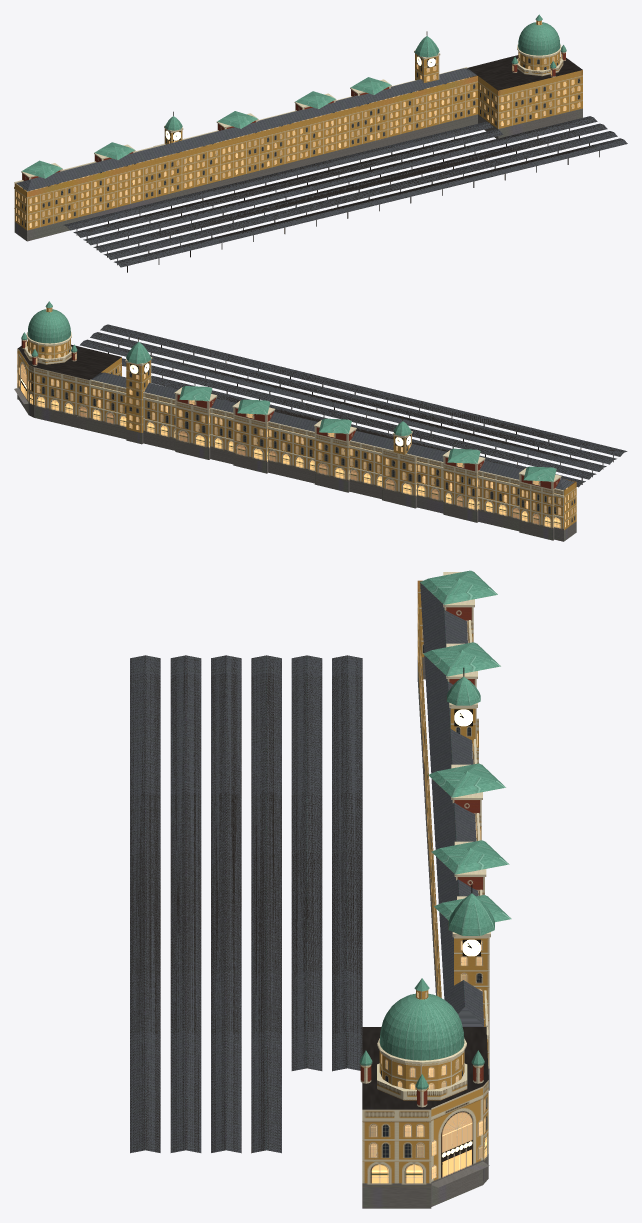
The model's file is flinders-station.glb.
3 views of the same model, one above another, from view 1: azimuth 30°, elevation 25°; view 2: azimuth 150°, elevation 25°; view 3: azimuth 270°, elevation 25° (orthographic). The views are drawn at different scales.
Parts seen in each view (by area): view 1: FSS_LOD0; view 2: FSS_LOD0; view 3: FSS_LOD0.
Boxes of the visible parts, box(x1,y1,x2,y2) form: FSS_LOD0: box(14, 14, 627, 272); FSS_LOD0: box(14, 301, 627, 541); FSS_LOD0: box(130, 570, 511, 1208).
Size of what is drawn, in the model's own units: 311 by 55.3 by 94.53.
1 material, 1 textured.
